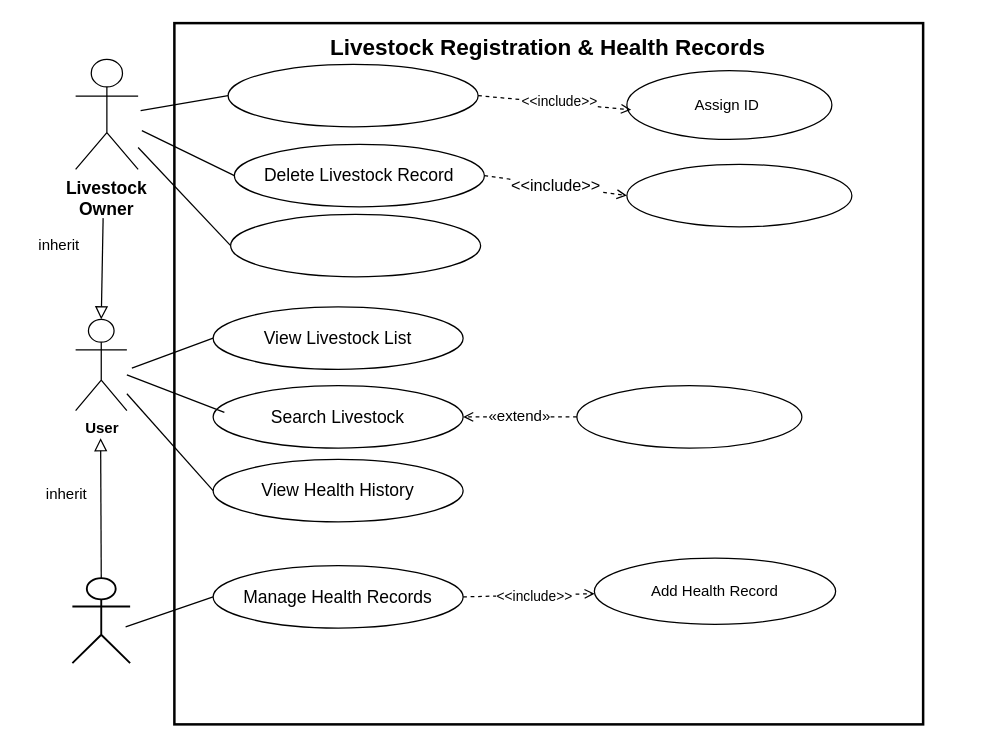
Some shapes in this 1006 by 746 pixel diagram are drawn without their labels. Here are the shapes that lost their labels. From the top down, the box of each, then its label:
(227, 63, 478, 127): Register Livestock
(626, 163, 852, 227): Confirm Deletion
(229, 213, 481, 277): Update Livestock Details
(576, 384, 802, 448): Use Urdu Voice Search
(71, 577, 130, 664): Veterinarian
